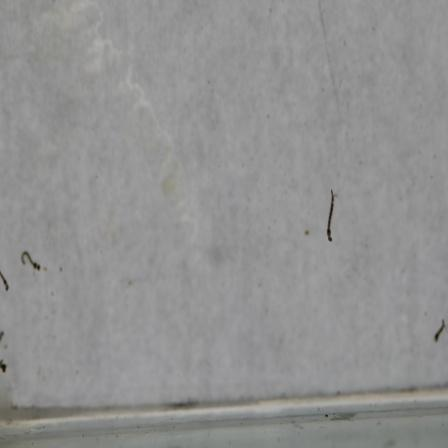Jentik-Nyamuk: (322, 184, 340, 244), (18, 245, 42, 272), (432, 315, 447, 345), (0, 263, 10, 298)
